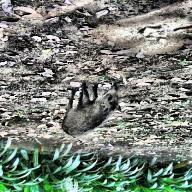boar: (61, 86, 130, 144)
